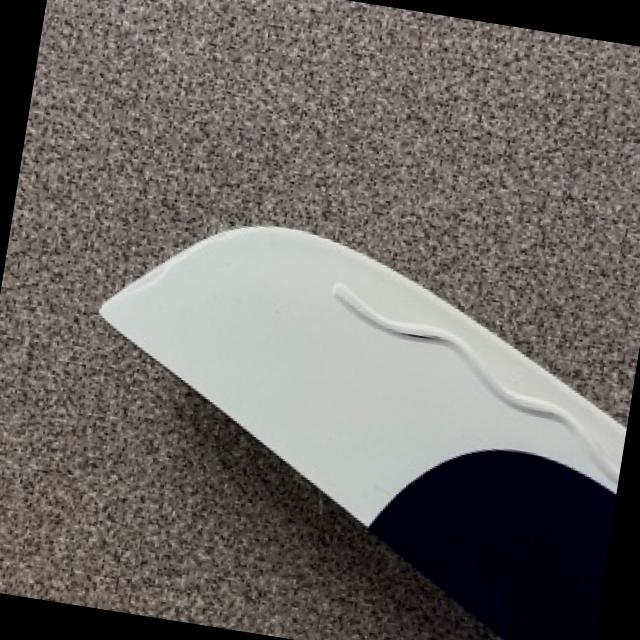healthy: (99, 224, 623, 640)
